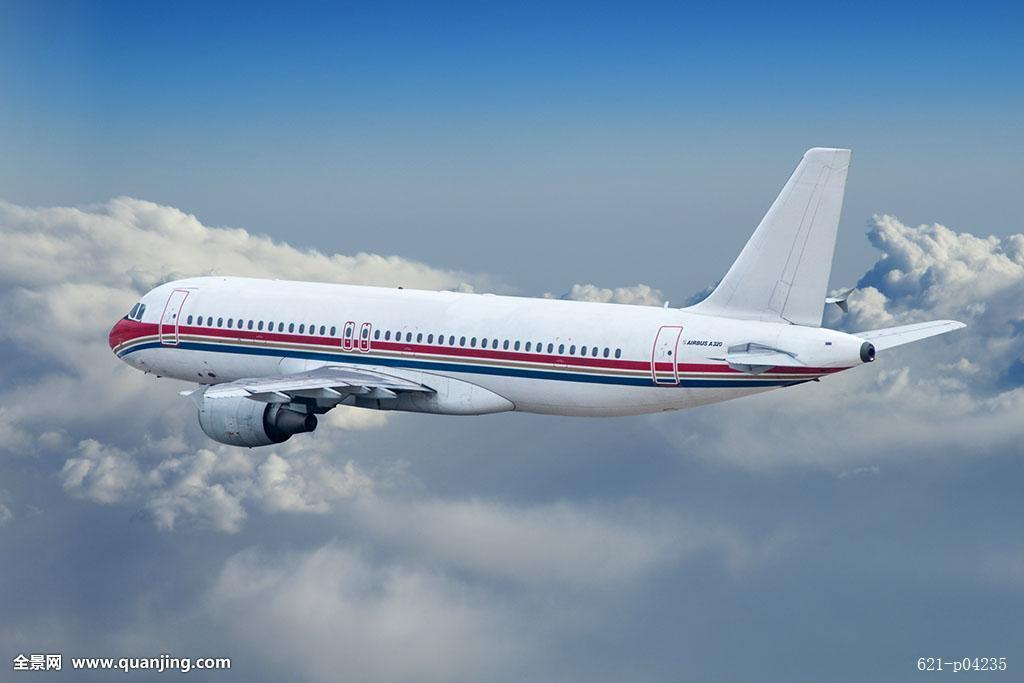airplane: (94, 140, 972, 449)
